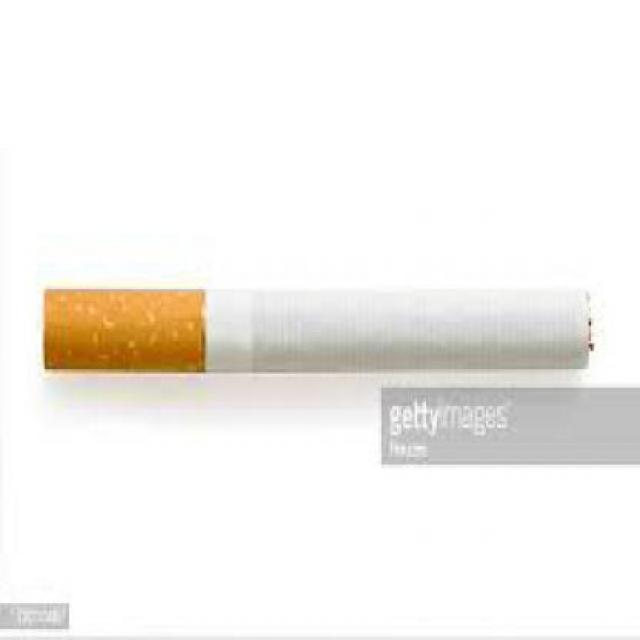cigarette: (33, 263, 604, 377)
